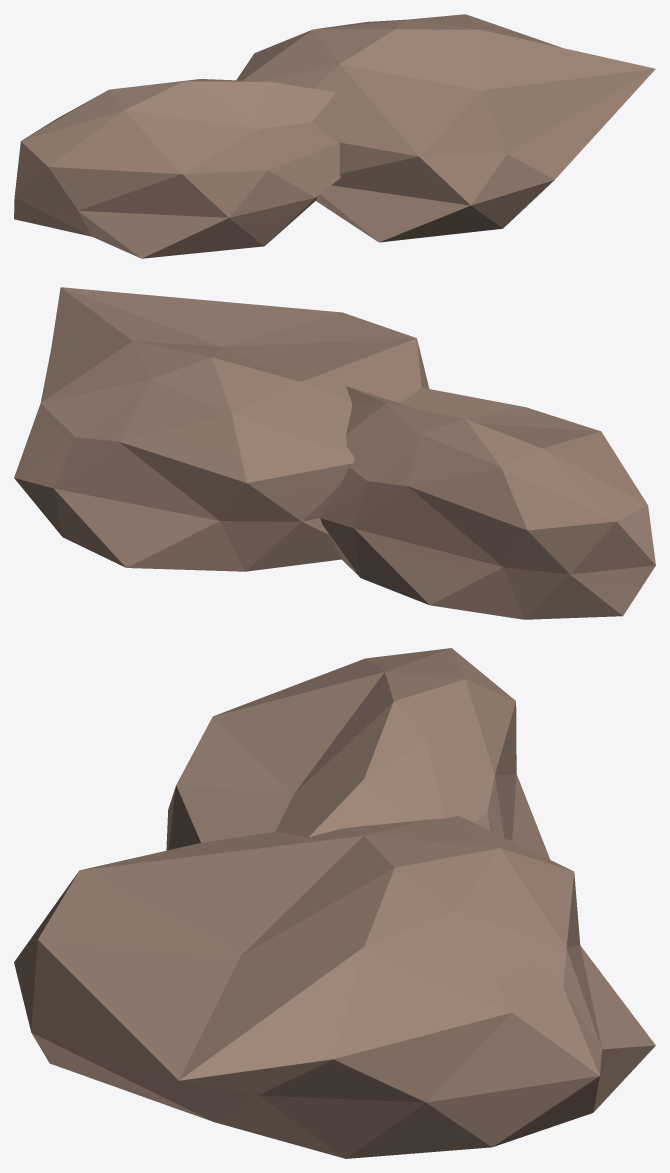
The model's file is shitou-3.fbx.
The picture shows the model from 3 angles, top to bottom: view 1: azimuth 30°, elevation 25°; view 2: azimuth 150°, elevation 25°; view 3: azimuth 270°, elevation 25°; orthographic projection. The views are drawn at different scales.
Visible parts, largest first — view 1: 棱角球.072; view 2: 棱角球.072; view 3: 棱角球.072.
Boxes of the visible parts, x1,y1,x2,y2 form: 棱角球.072: [14, 14, 655, 258]; 棱角球.072: [14, 287, 655, 619]; 棱角球.072: [14, 648, 655, 1158].
Size of the model in its own units: 1890 by 384 by 1144.
